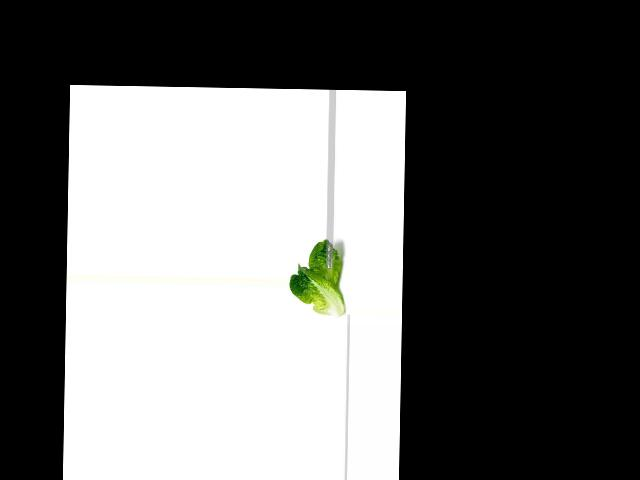lettuce: (288, 236, 343, 318)
